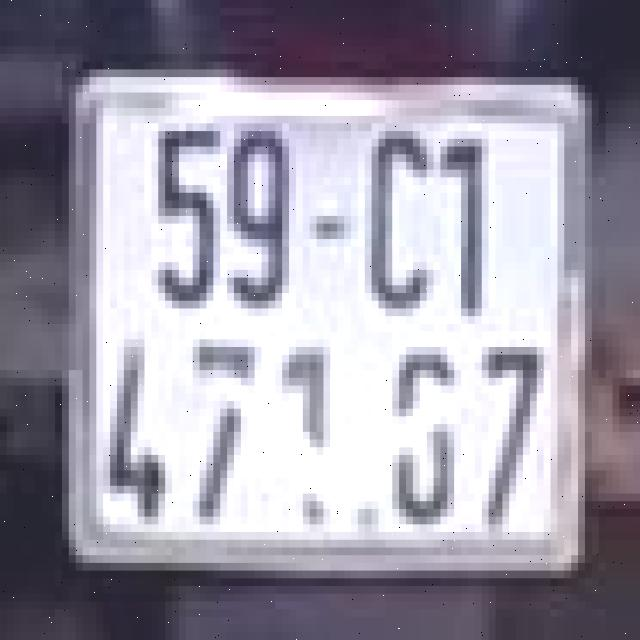1: (278, 320, 334, 544), (437, 120, 492, 328)
4: (96, 328, 179, 536)
5: (148, 112, 217, 320)
6: (382, 339, 458, 532)
7: (189, 320, 265, 528), (472, 336, 540, 528)
9: (227, 112, 310, 312)
C: (348, 108, 437, 316)
